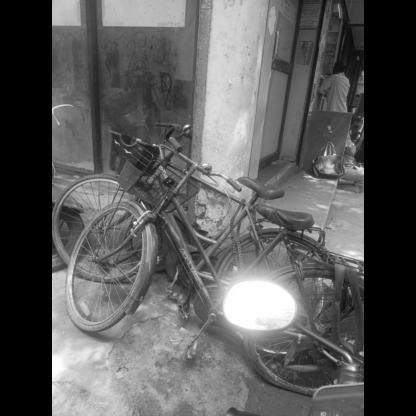Bicycle: (64, 141, 364, 389)
